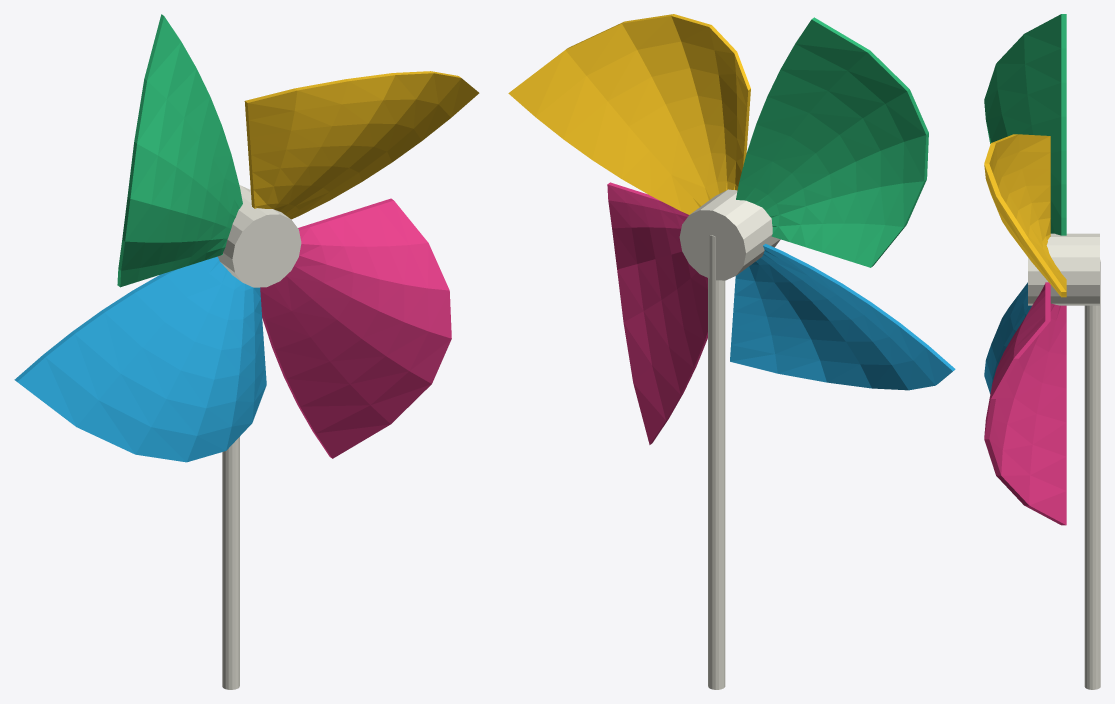
File: NEW_RECOVERY_088_LOD1.glb
The picture shows the model from 3 angles, left to right: view 1: azimuth 30°, elevation 25°; view 2: azimuth 150°, elevation 25°; view 3: azimuth 270°, elevation 25°; orthographic projection. The views are drawn at different scales.
Visible parts, largest first — view 1: Pinwheel_static_whole; view 2: Pinwheel_static_whole; view 3: Pinwheel_static_whole.
Boxes of the visible parts, bbox=[...] form: Pinwheel_static_whole: bbox=[14, 14, 479, 689]; Pinwheel_static_whole: bbox=[508, 14, 955, 689]; Pinwheel_static_whole: bbox=[984, 14, 1100, 689].
Size of the model in its own units: 1.67 by 2.43 by 0.4045.
